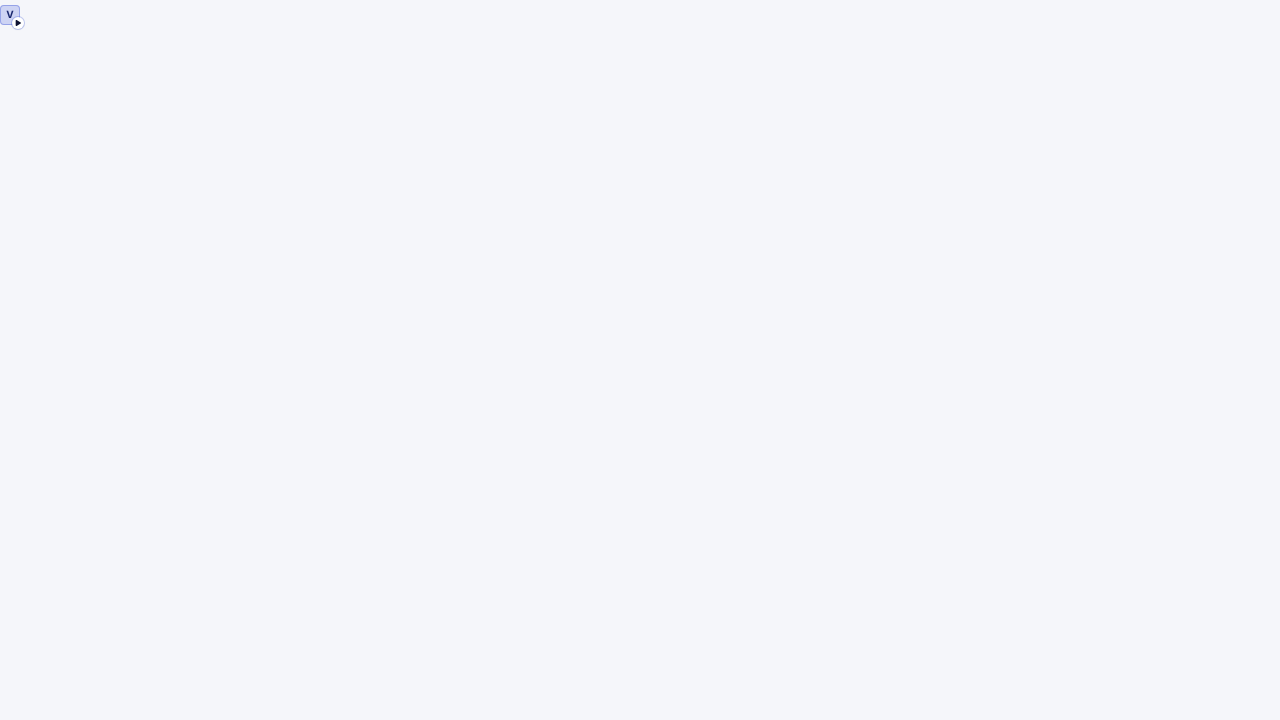
Test: ClaimChip — modal close handoff › closes the modal when the backdrop is clicked
Step 1. Click the button with test id "claim-chip-clip" → (10, 14), box [0, 4, 20, 24]
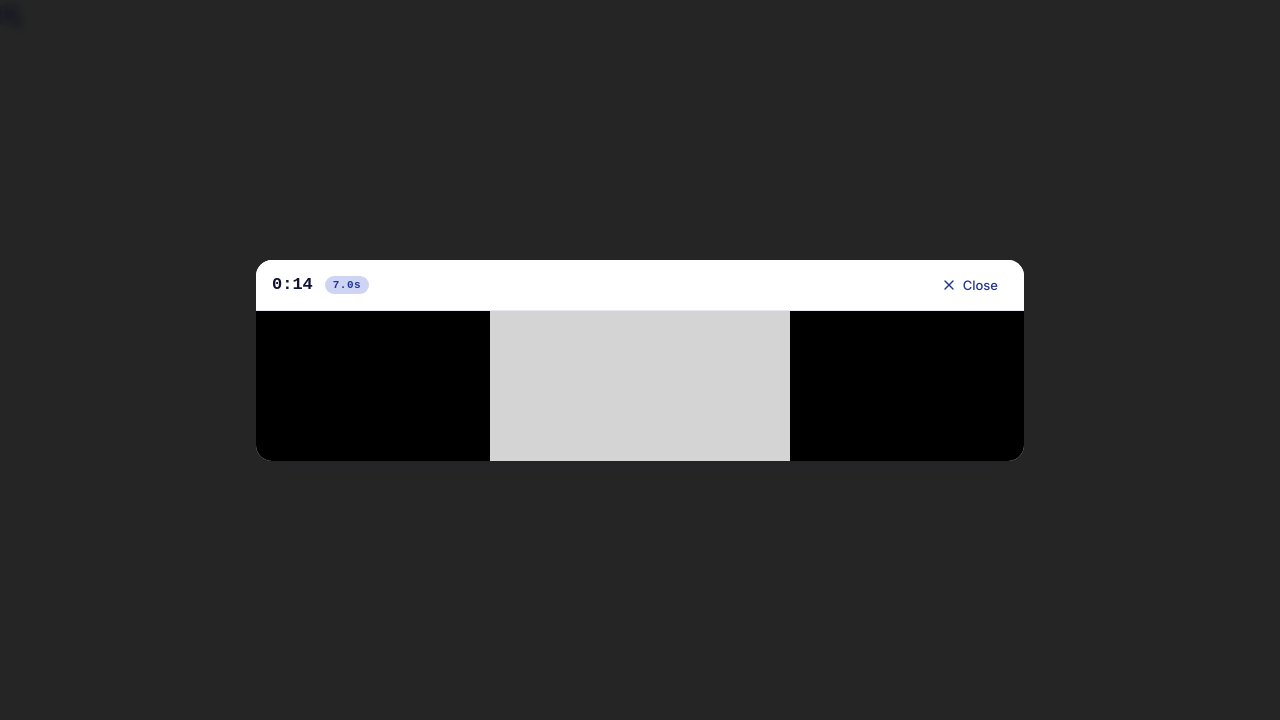
expect the dialog with test id "clip-modal-content" is shown: met, box [256, 260, 1024, 460]
Step 2. Click the element with test id "clip-modal-backdrop" → (77, 360), box [0, 0, 1279, 719]
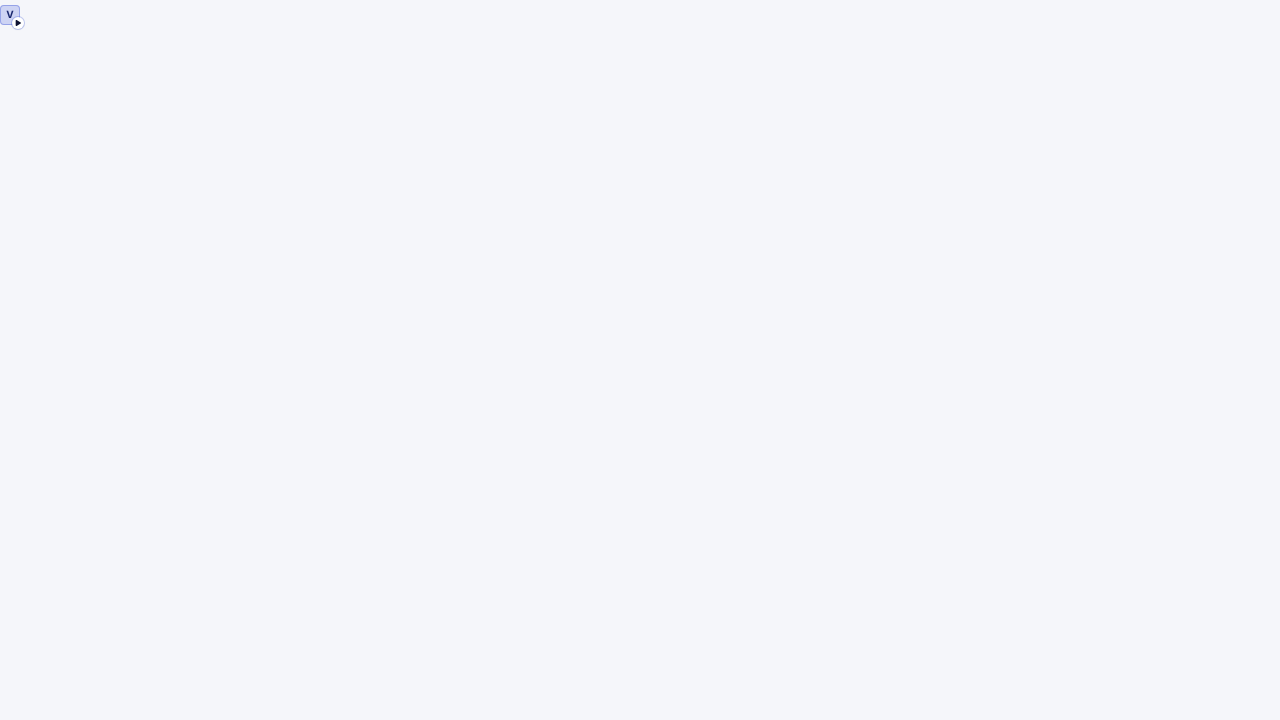
expect the dialog with test id "clip-modal-content" is gone: met
